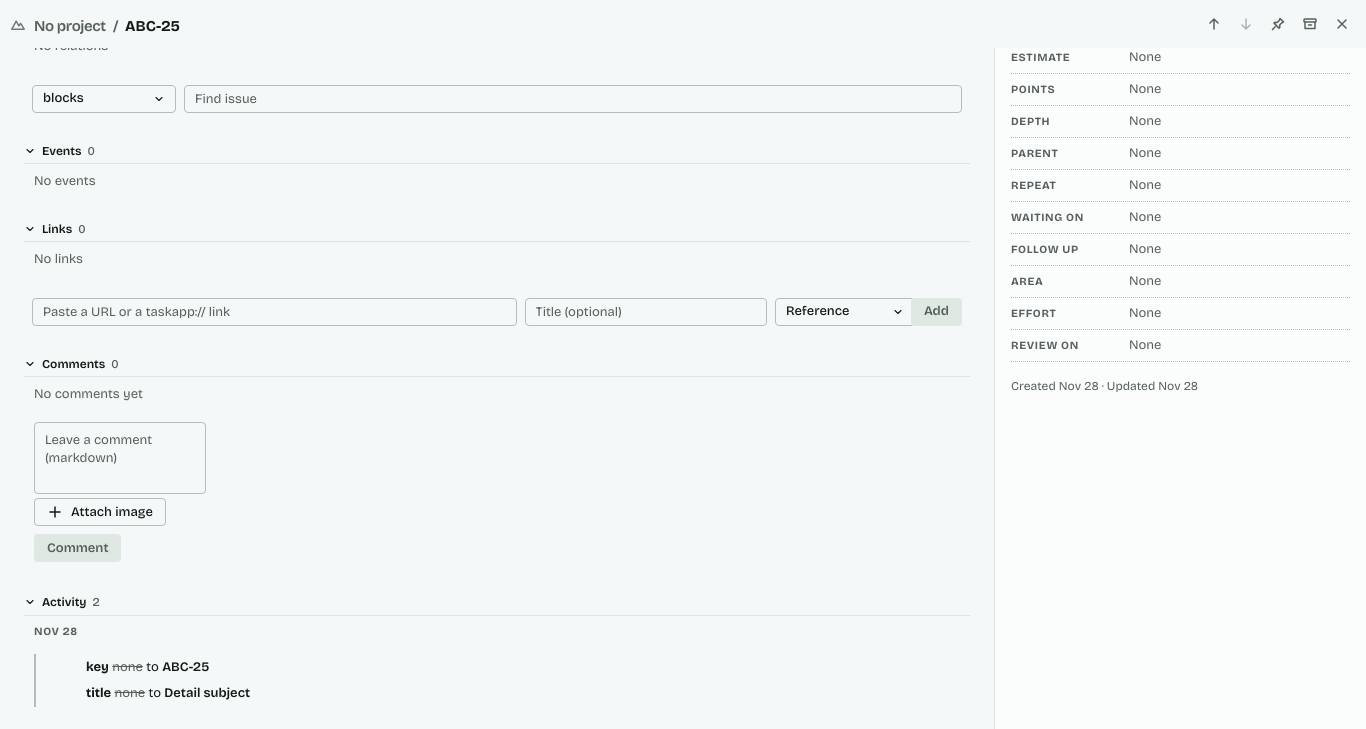
it: IssueDetail › comment_posts_and_history_is_dated
The image size is (1366, 729).
(page scrolled)
Type "hello **there**" into the text box with placeholder "Leave a comment (markdown)". click: (120, 458)
box: [34,422,206,494]
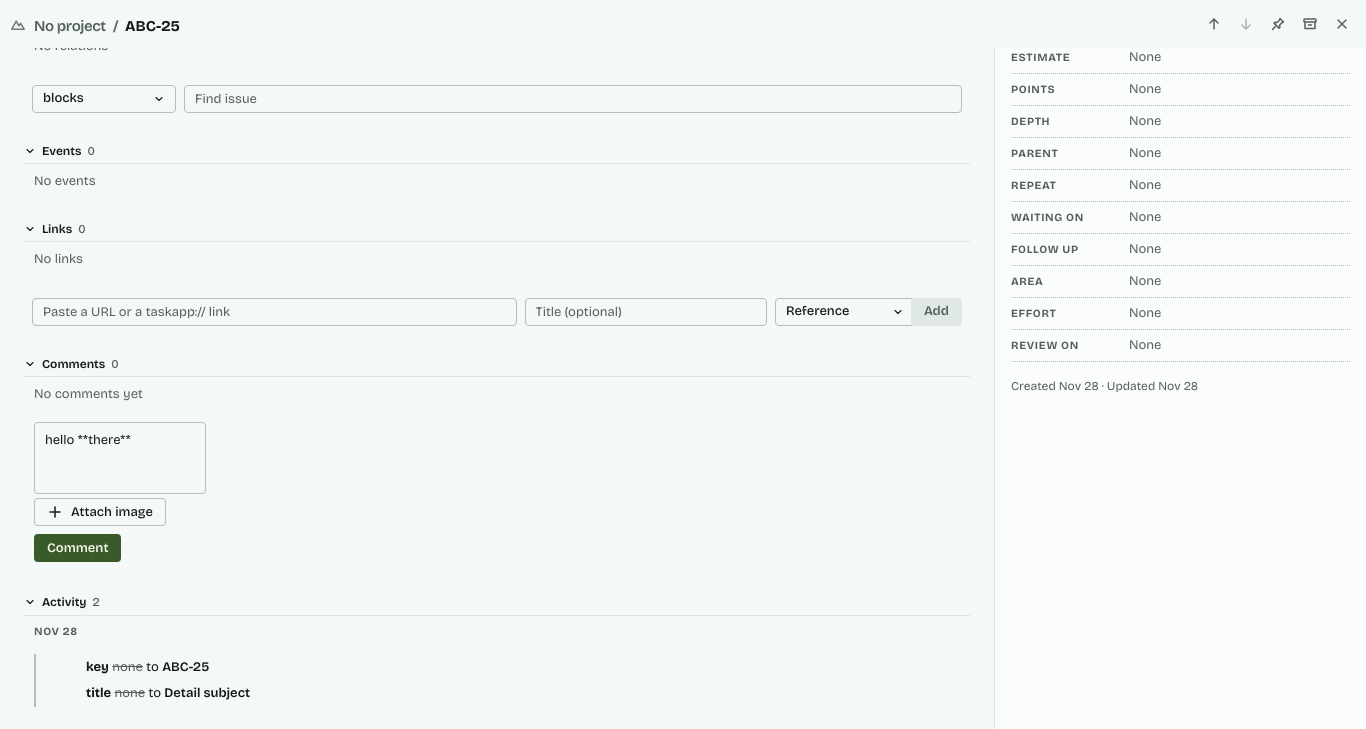
Click the button "Comment". click: (78, 548)
box: [34,534,122,562]
(page scrolled)
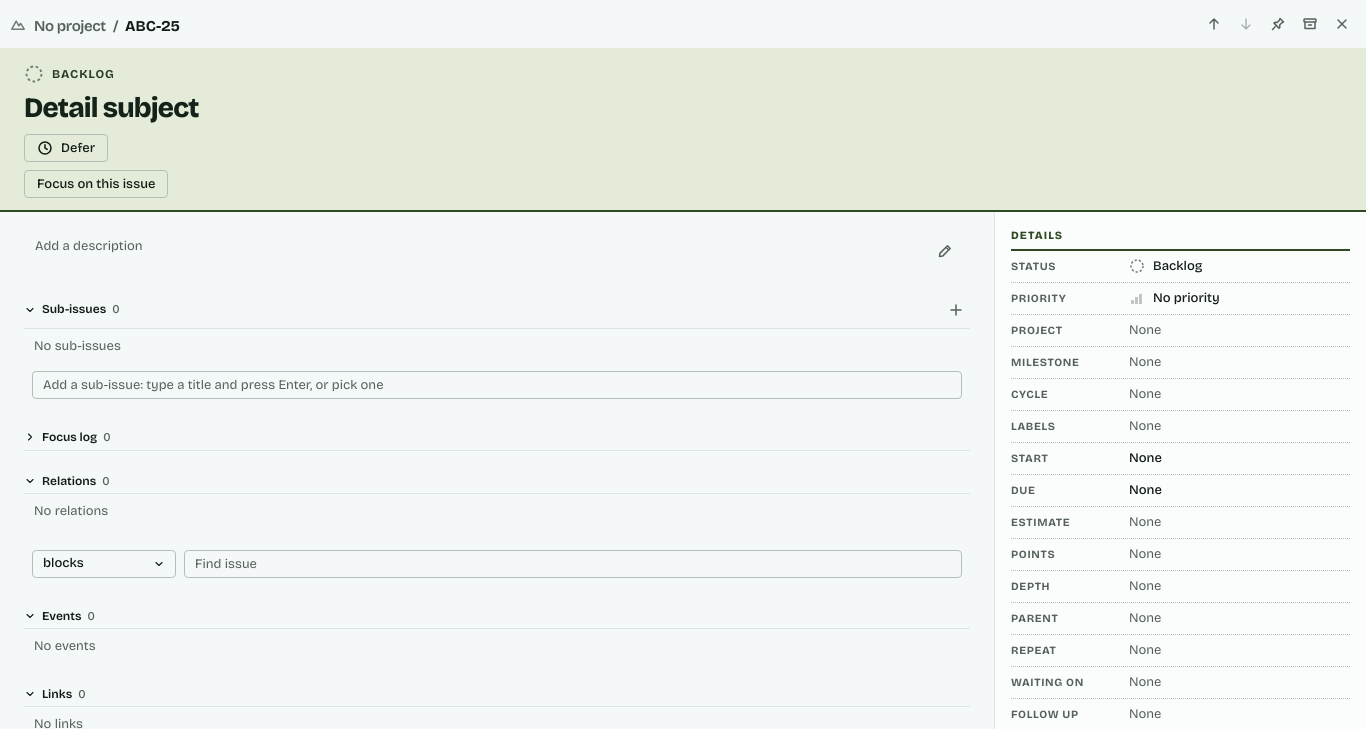
Click the button "Detail subject". click: (111, 108)
box: [24,92,1342,126]
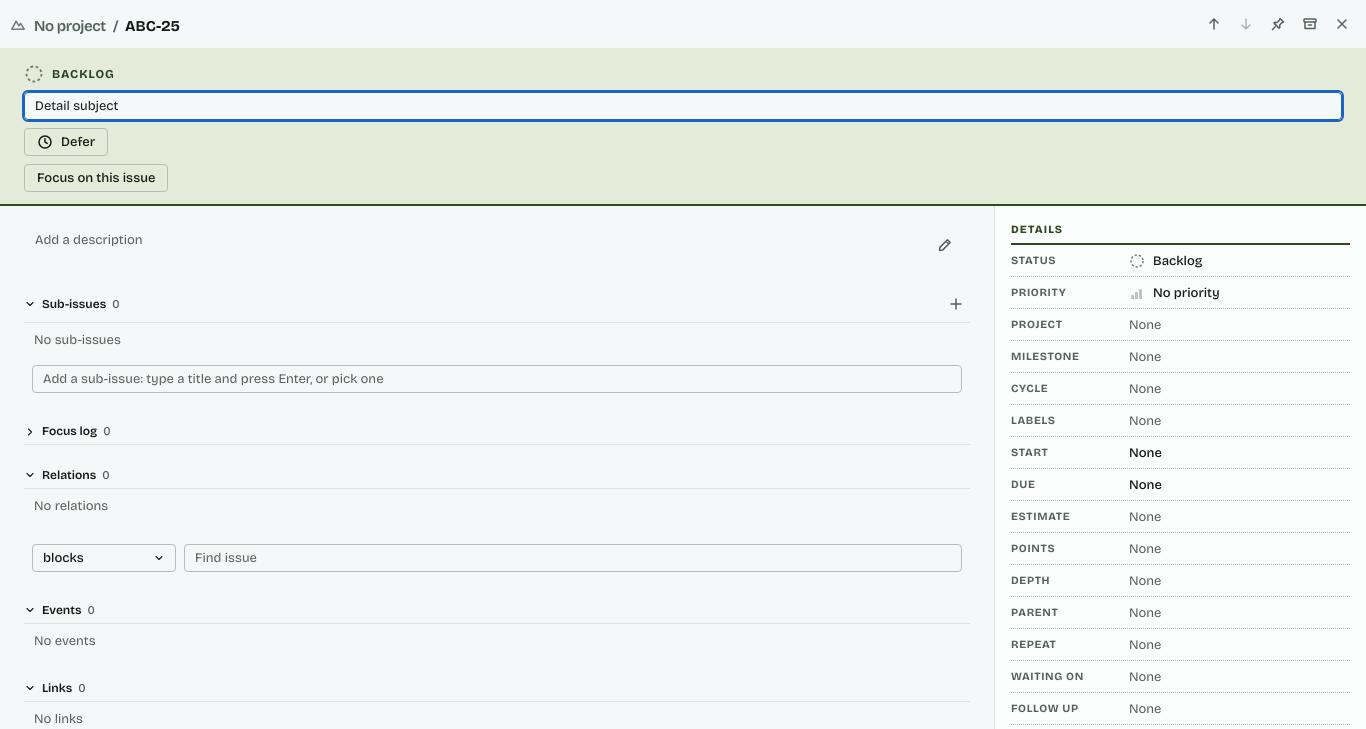
Replace the text in the field named "Title" with "Changed". click: (683, 106)
box: [24,92,1342,120]
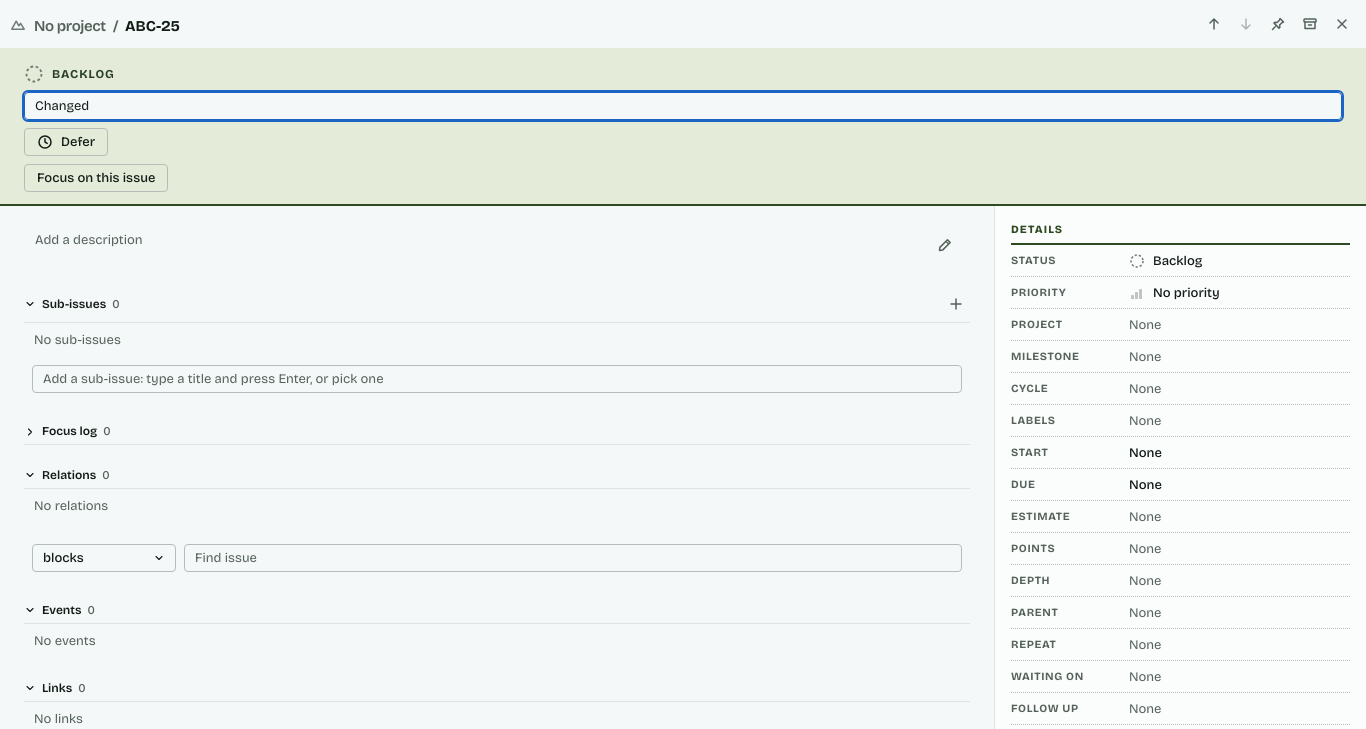
Submit the 1st form, box [24,92,1342,120]
(page scrolled)
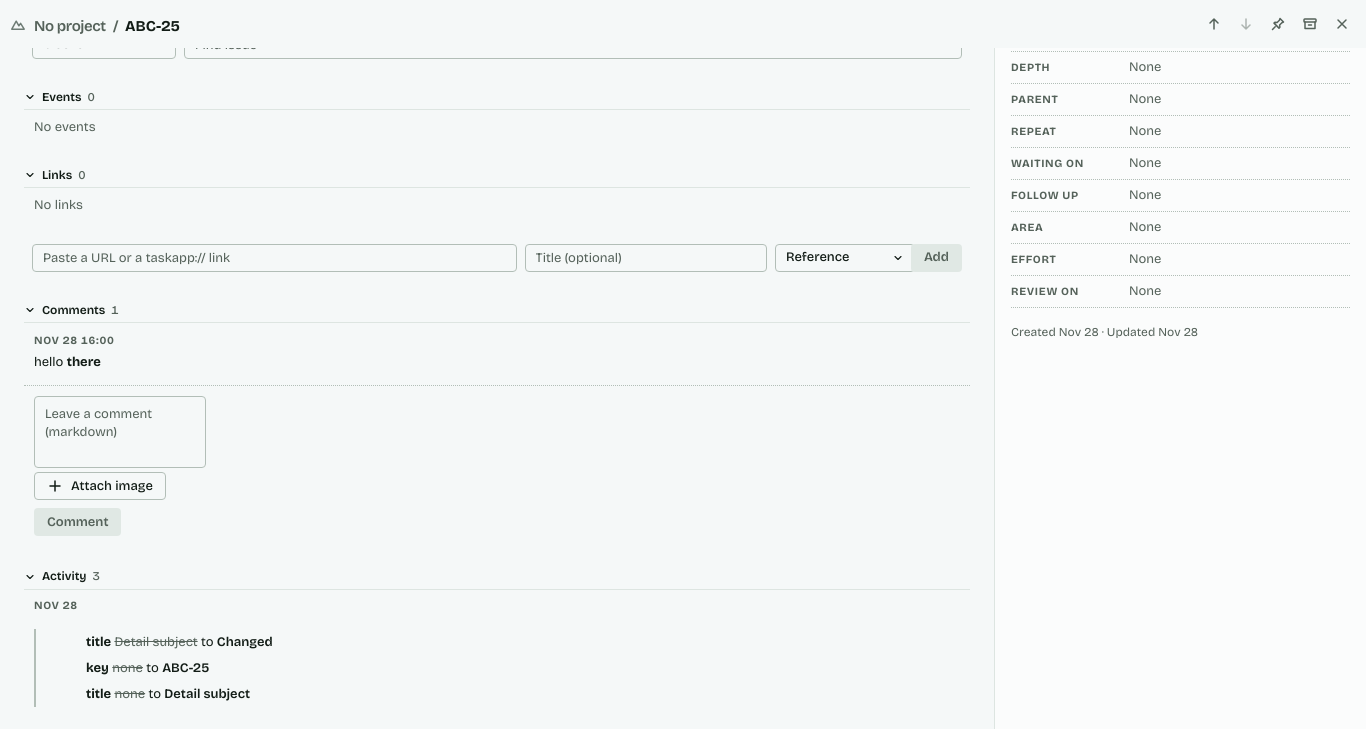
Result: the element named "History" shows "Changed" at [217,634,273,650]
Result: the heading "Nov 28" is shown at [34,599,78,612]
